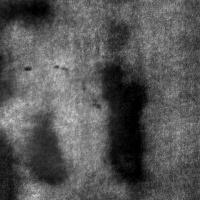patches: (0, 59, 121, 181), (0, 0, 77, 90), (98, 61, 150, 181), (25, 110, 68, 187), (51, 166, 117, 200), (1, 126, 21, 200), (1, 1, 52, 28)
